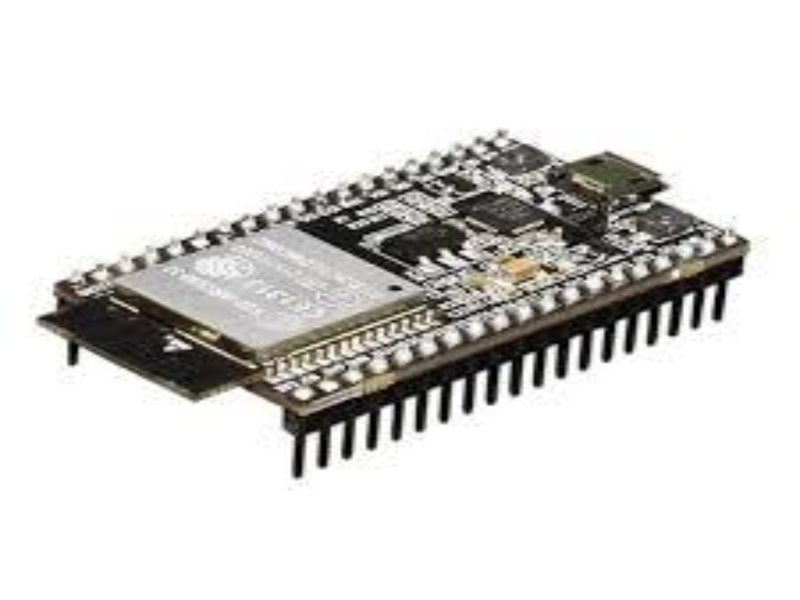esp32: (61, 121, 753, 448)
